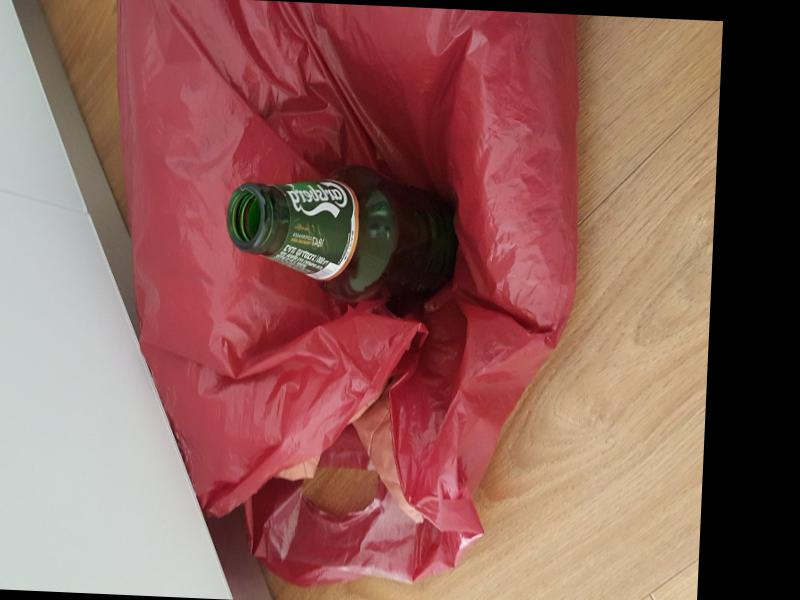Beer: (226, 162, 462, 306)
